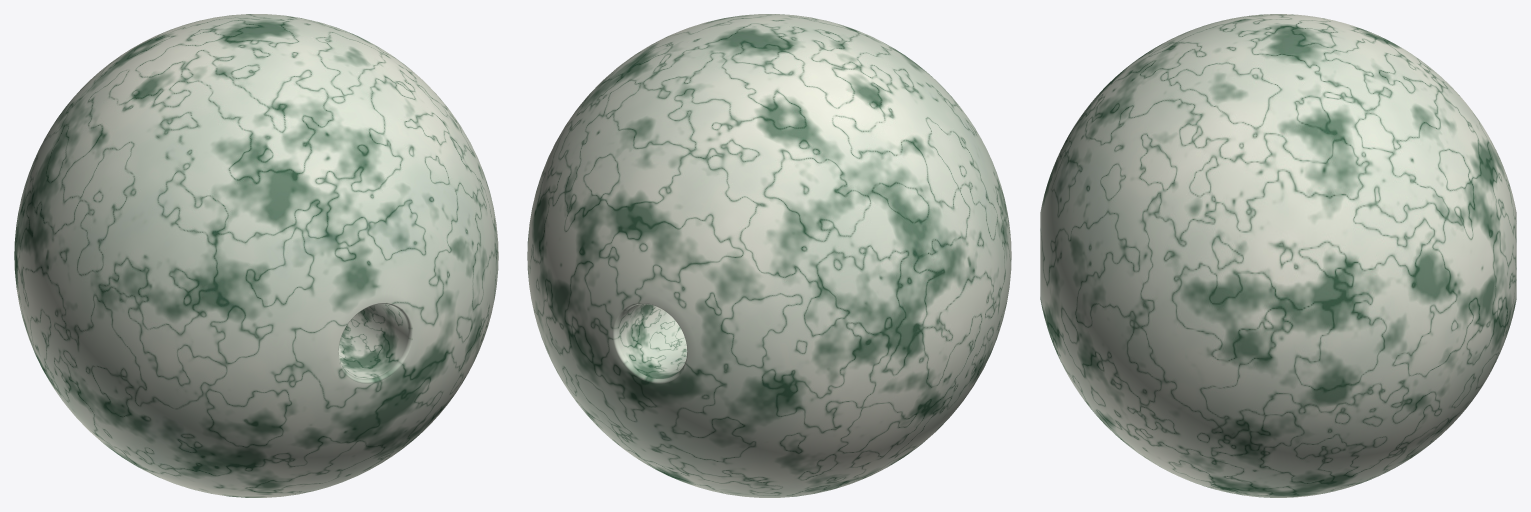
The model's file is tree-agate-6mm.glb.
3 renders of one model, left to right at view 1: azimuth 30°, elevation 25°; view 2: azimuth 150°, elevation 25°; view 3: azimuth 270°, elevation 25°, orthographic.
Parts seen in each view (by area): view 1: tree-agate.001; view 2: tree-agate.001; view 3: tree-agate.001.
Part boxes in pixels (<box>): tree-agate.001: <box>14,14,498,497</box>; tree-agate.001: <box>527,14,1011,497</box>; tree-agate.001: <box>1040,14,1516,497</box>.
Bounding box in the file's own units: 0.006 × 0.006 × 0.0059.
Materials: 1 (1 with a texture image).
